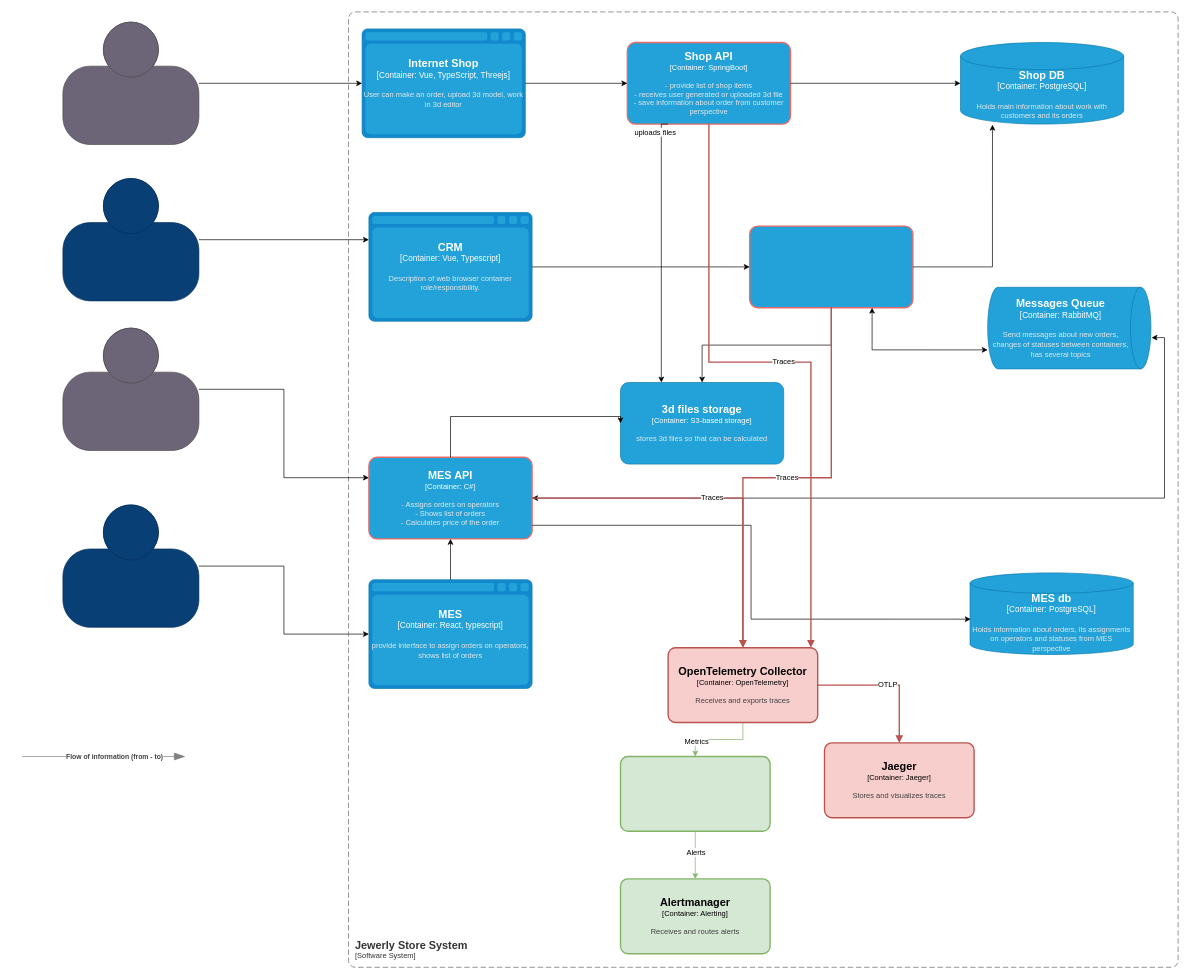
The diagram is 1190 pixels wide and 979 high, and some of its shapes have lost their labels. The shapes that lost their labels are listed below. From the top down, each one's centre as x and y in pixels, then its label:
the point at 130,82: Customer [Person] Description of external person.
the point at 130,239: Seller [Person] Operates with order, confirms manufacturing for the user
the point at 831,266: CRM API [Container: SpringBoot] Description of container role/responsibility.
the point at 130,389: API user [Person] Description of external person.
the point at 130,565: Operator [Person] Takes order in work, manufactures jewerly
the point at 694,793: Prometheus [Container: Monitoring] Collects metrics derived from traces
